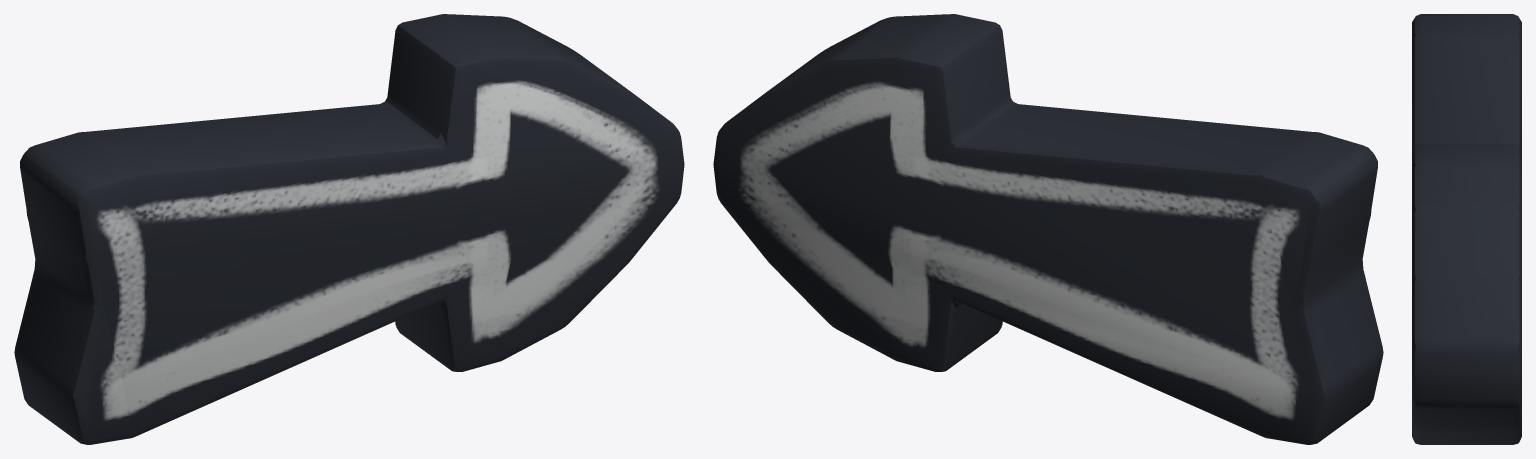
The model's file is Arrow.fbx.
3 renders of one model, left to right at view 1: azimuth 30°, elevation 25°; view 2: azimuth 150°, elevation 25°; view 3: azimuth 270°, elevation 25°, orthographic. The views are drawn at different scales.
Parts seen in each view (by area): view 1: Plane; view 2: Plane; view 3: Plane.
Boxes of the visible parts, x1,y1,x2,y2 form: Plane: [14, 14, 684, 444]; Plane: [713, 14, 1383, 444]; Plane: [1412, 14, 1521, 444].
Size of the model in its own units: 0.5685 by 0.2754 by 0.1.
